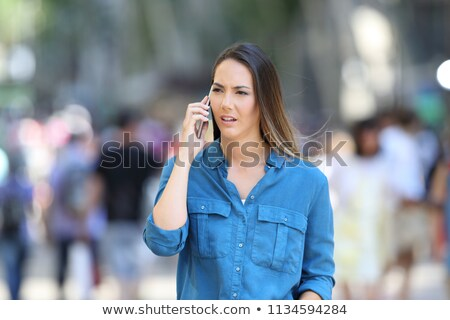phone: (192, 95, 219, 140)
talk: (180, 76, 256, 150)
